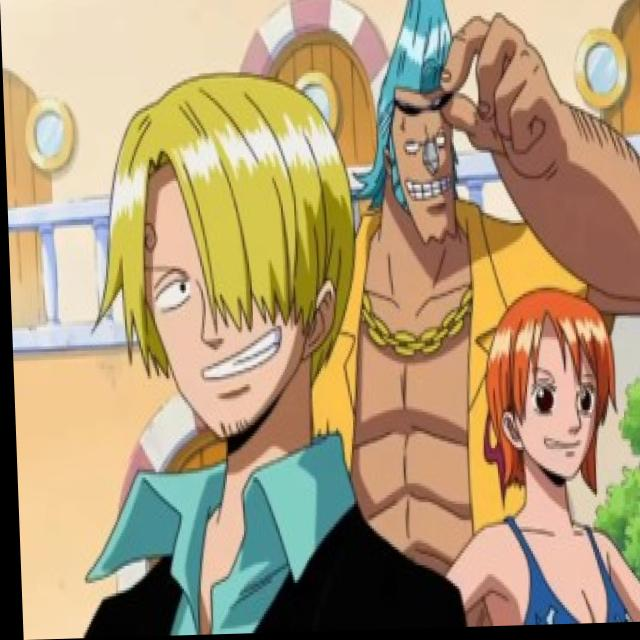Franky: (468, 274, 616, 500), (344, 0, 474, 255)
Sangdi: (83, 76, 354, 461)
